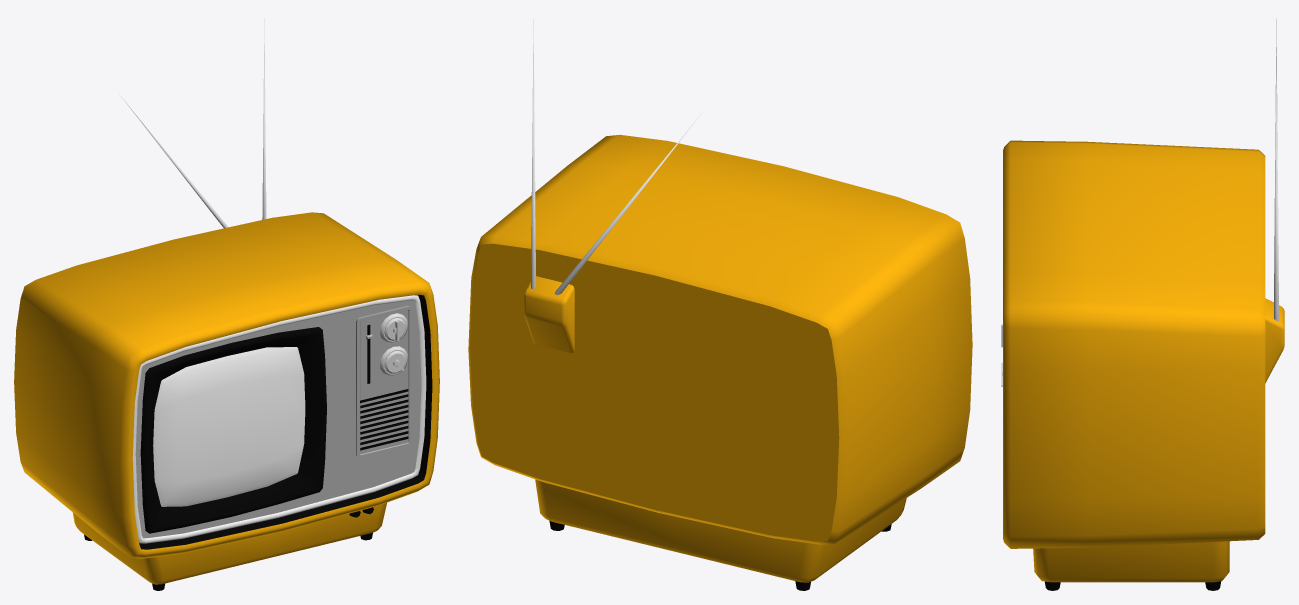
File: tvUnwrapped.glb
The picture shows the model from 3 angles, left to right: view 1: azimuth 30°, elevation 25°; view 2: azimuth 150°, elevation 25°; view 3: azimuth 270°, elevation 25°; orthographic projection. The views are drawn at different scales.
Visible parts, largest first — view 1: Retro TV; view 2: Retro TV; view 3: Retro TV.
Part boxes in pixels (x1,y1,x2,y2): Retro TV: (14,18,439,590); Retro TV: (468,19,972,590); Retro TV: (1001,19,1284,590).
Bounding box in the file's own units: 110 × 150 × 71.95.
